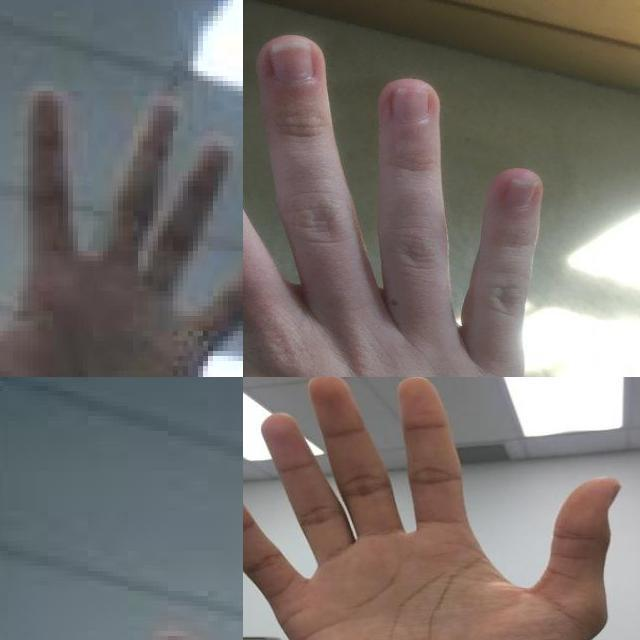no-gloves: (243, 33, 545, 377), (243, 377, 620, 640), (0, 76, 243, 377)
